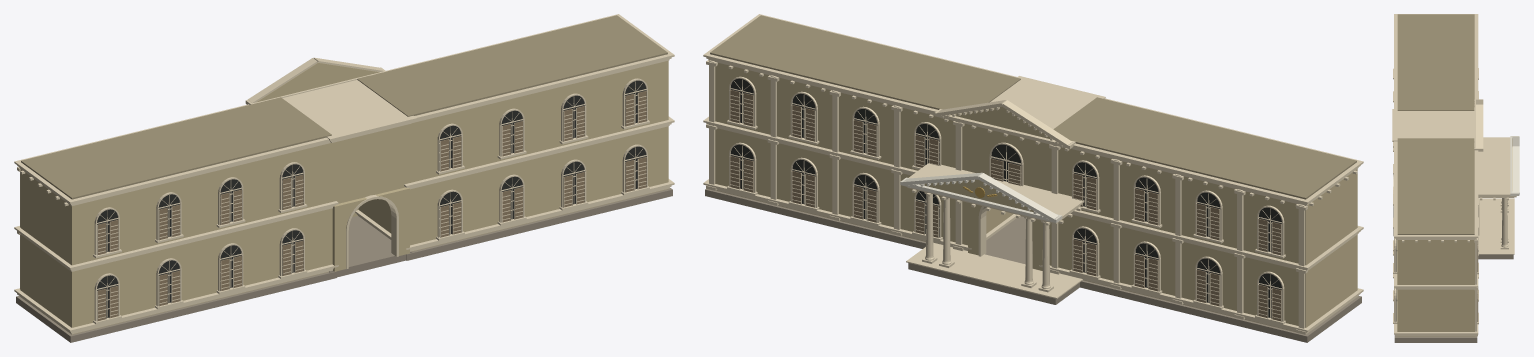
The model's file is KOL_T1_RAJBARI__03_Street_Front.fbx.
The picture shows the model from 3 angles, left to right: view 1: azimuth 30°, elevation 25°; view 2: azimuth 150°, elevation 25°; view 3: azimuth 270°, elevation 25°; orthographic projection. The views are drawn at different scales.
Visible parts, largest first — view 1: KOL_T1_RAJBARI__03_Street_Front__KOL_T1_EstatePlaster, KOL_T1_RAJBARI__03_Street_Front__KOL_T1_EstateRoof, KOL_T1_RAJBARI__03_Street_Front__KOL_T1_EstateIvory, KOL_T1_RAJBARI__03_Street_Front__KOL_T1_EstateIvory.002, KOL_T1_RAJBARI__03_Street_Front__KOL_T1_EstateTaupe, KOL_T1_RAJBARI__03_Street_Front__KOL_T1_EstateStone, KOL_T1_RAJBARI__03_Street_Front__KOL_T1_HeritageDark, KOL_T1_RAJBARI__03_Street_Front__KOL_T1_EstateIvory.001; view 2: KOL_T1_RAJBARI__03_Street_Front__KOL_T1_EstatePlaster, KOL_T1_RAJBARI__03_Street_Front__KOL_T1_EstateRoof, KOL_T1_RAJBARI__03_Street_Front__KOL_T1_EstateIvory.002, KOL_T1_RAJBARI__03_Street_Front__KOL_T1_EstateIvory, KOL_T1_RAJBARI__03_Street_Front__KOL_T1_EstateTaupe, KOL_T1_RAJBARI__03_Street_Front__KOL_T1_EstateIvory.003, KOL_T1_RAJBARI__03_Street_Front__KOL_T1_EstateStone, KOL_T1_RAJBARI__03_Street_Front__KOL_T1_HeritageDark, KOL_T1_RAJBARI__03_Street_Front__KOL_T1_EstateIvory.001, KOL_T1_RAJBARI__03_Street_Front__KOL_T1_EstateWhite; view 3: KOL_T1_RAJBARI__03_Street_Front__KOL_T1_EstateRoof, KOL_T1_RAJBARI__03_Street_Front__KOL_T1_EstatePlaster, KOL_T1_RAJBARI__03_Street_Front__KOL_T1_EstateIvory.003, KOL_T1_RAJBARI__03_Street_Front__KOL_T1_EstateIvory.002, KOL_T1_RAJBARI__03_Street_Front__KOL_T1_EstateIvory, KOL_T1_RAJBARI__03_Street_Front__KOL_T1_EstateStone, KOL_T1_RAJBARI__03_Street_Front__KOL_T1_EstateWhite.
Boxes of the visible parts, <box> form: KOL_T1_RAJBARI__03_Street_Front__KOL_T1_EstatePlaster: <box>20,60,668,334</box>; KOL_T1_RAJBARI__03_Street_Front__KOL_T1_EstateRoof: <box>21,15,667,199</box>; KOL_T1_RAJBARI__03_Street_Front__KOL_T1_EstateIvory: <box>14,14,674,334</box>; KOL_T1_RAJBARI__03_Street_Front__KOL_T1_EstateIvory.002: <box>17,57,649,295</box>; KOL_T1_RAJBARI__03_Street_Front__KOL_T1_EstateTaupe: <box>97,91,646,320</box>; KOL_T1_RAJBARI__03_Street_Front__KOL_T1_EstateStone: <box>16,187,672,342</box>; KOL_T1_RAJBARI__03_Street_Front__KOL_T1_HeritageDark: <box>97,80,646,317</box>; KOL_T1_RAJBARI__03_Street_Front__KOL_T1_EstateIvory.001: <box>216,123,464,294</box>; KOL_T1_RAJBARI__03_Street_Front__KOL_T1_EstatePlaster: <box>715,63,1357,334</box>; KOL_T1_RAJBARI__03_Street_Front__KOL_T1_EstateRoof: <box>710,15,1356,199</box>; KOL_T1_RAJBARI__03_Street_Front__KOL_T1_EstateIvory.002: <box>706,60,1307,334</box>; KOL_T1_RAJBARI__03_Street_Front__KOL_T1_EstateIvory: <box>703,14,1363,332</box>; KOL_T1_RAJBARI__03_Street_Front__KOL_T1_EstateTaupe: <box>730,90,1281,321</box>; KOL_T1_RAJBARI__03_Street_Front__KOL_T1_EstateIvory.003: <box>906,107,1084,298</box>; KOL_T1_RAJBARI__03_Street_Front__KOL_T1_EstateStone: <box>705,188,1361,342</box>; KOL_T1_RAJBARI__03_Street_Front__KOL_T1_HeritageDark: <box>730,78,1281,317</box>; KOL_T1_RAJBARI__03_Street_Front__KOL_T1_EstateIvory.001: <box>850,106,1158,279</box>; KOL_T1_RAJBARI__03_Street_Front__KOL_T1_EstateWhite: <box>900,172,1062,222</box>; KOL_T1_RAJBARI__03_Street_Front__KOL_T1_EstateRoof: <box>1397,14,1474,234</box>; KOL_T1_RAJBARI__03_Street_Front__KOL_T1_EstatePlaster: <box>1397,138,1512,336</box>; KOL_T1_RAJBARI__03_Street_Front__KOL_T1_EstateIvory.003: <box>1478,137,1516,254</box>; KOL_T1_RAJBARI__03_Street_Front__KOL_T1_EstateIvory.002: <box>1392,99,1483,336</box>; KOL_T1_RAJBARI__03_Street_Front__KOL_T1_EstateIvory: <box>1393,14,1479,336</box>; KOL_T1_RAJBARI__03_Street_Front__KOL_T1_EstateStone: <box>1394,254,1513,342</box>; KOL_T1_RAJBARI__03_Street_Front__KOL_T1_EstateWhite: <box>1510,136,1519,195</box>.
Bounding box in the file's own units: 176 × 47.07 × 42.58.
